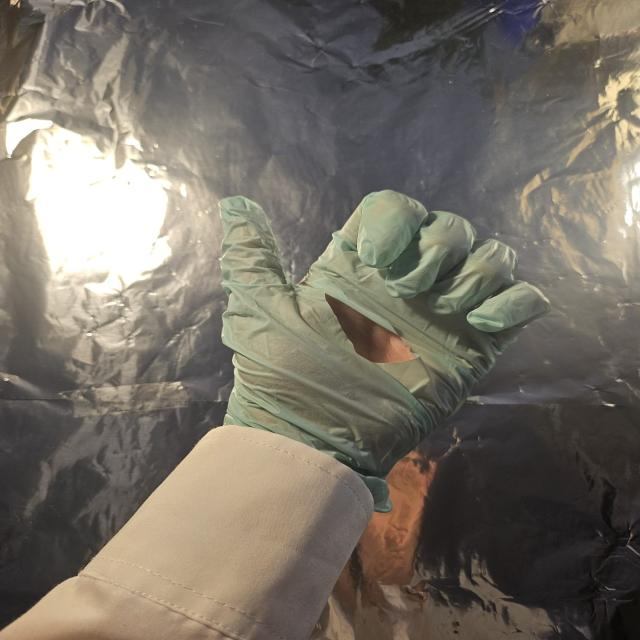gloves_damaged: (207, 188, 552, 509)
